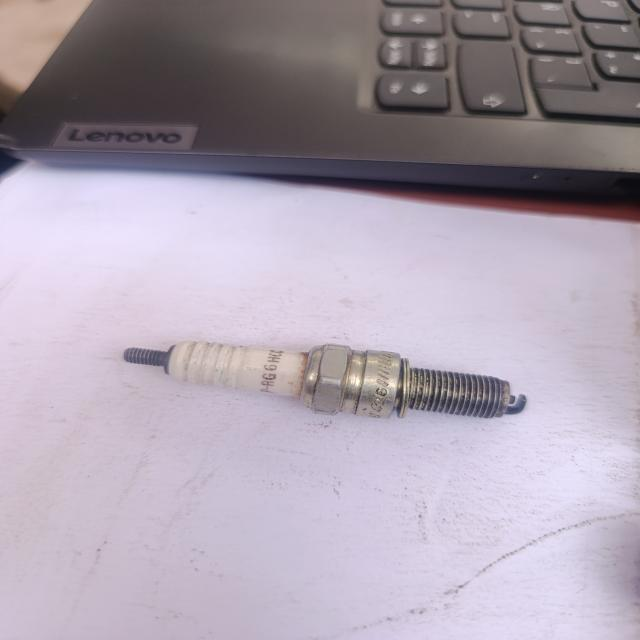bujia: (124, 341, 526, 418)
